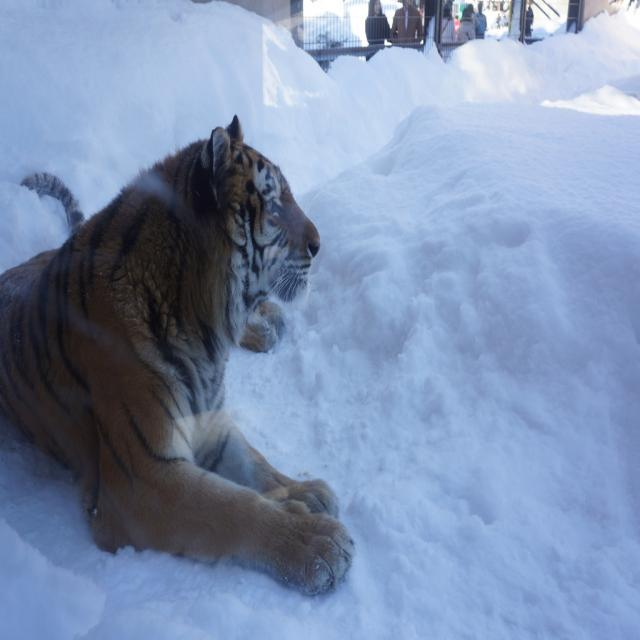Tiger: (0, 109, 355, 597)
